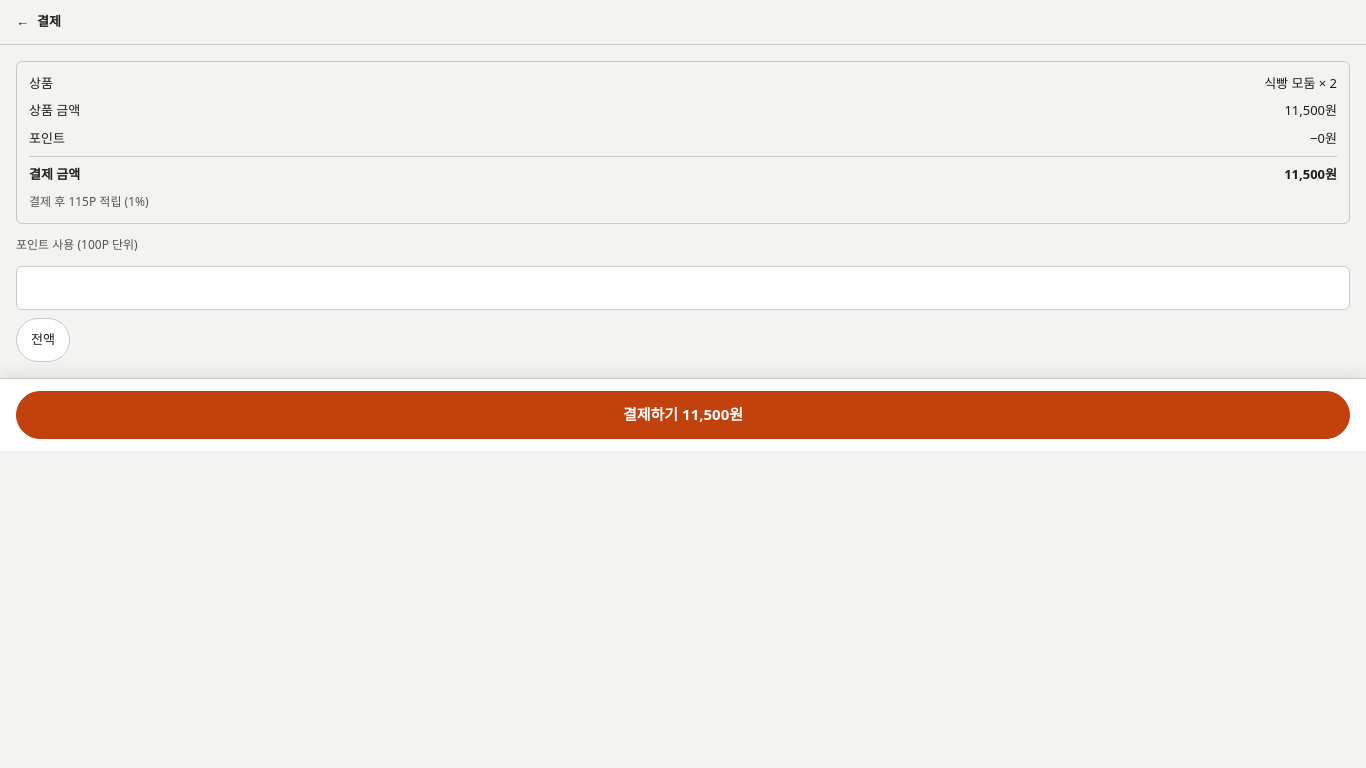
Scenario: CheckoutPage (C3) › 뒤로 가기(←)를 누르면 C3a 시트가 열린다
Check: the button "결제하기 11,500원" is shown, box [16,390,1350,438]
Click the button "←".
click(22, 22)  # box [16,12,29,32]
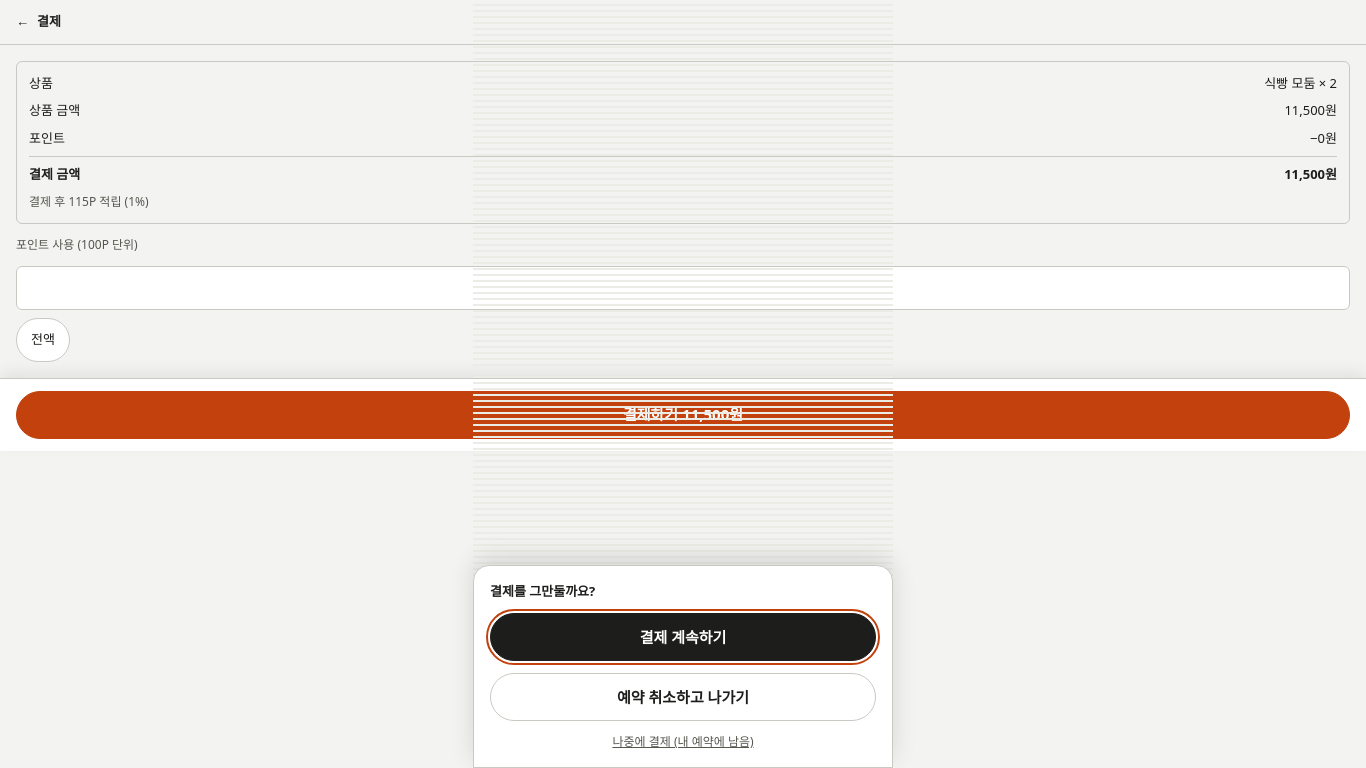
Check: the button "결제 계속하기" is shown, box [490,613,876,661]
